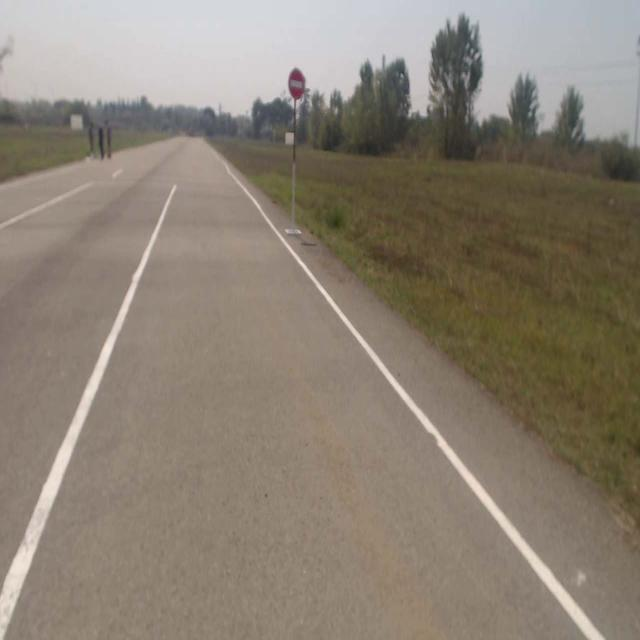girisyok: (288, 68, 304, 99)
